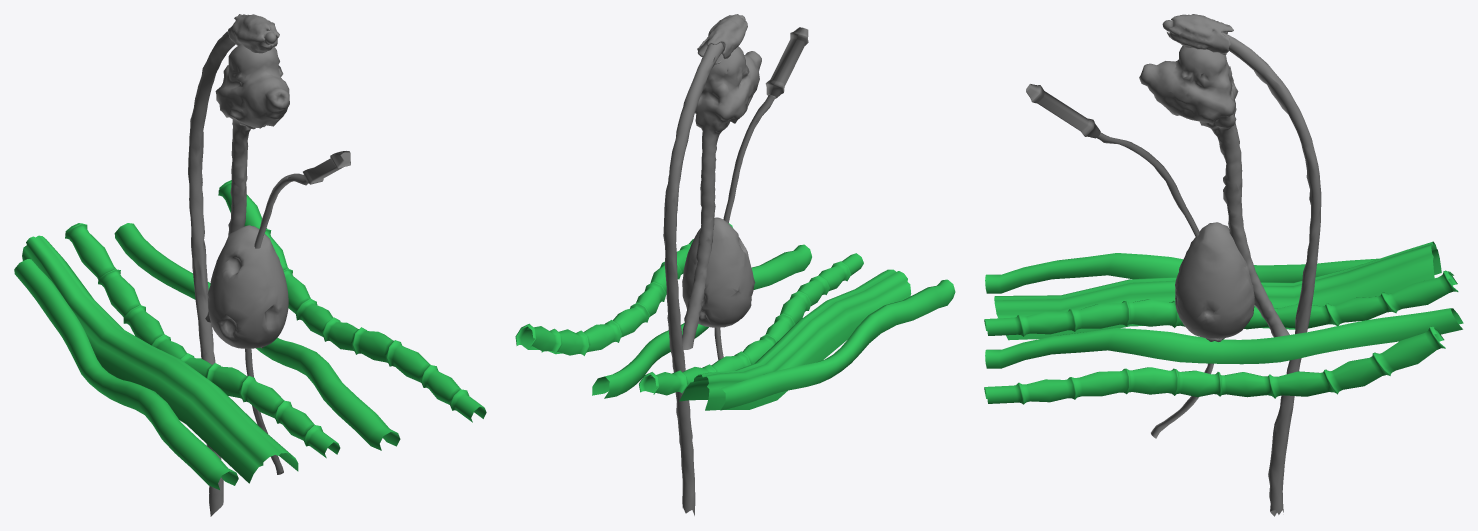
The model's file is Side_Props.fbx.
3 renders of one model, left to right at view 1: azimuth 30°, elevation 25°; view 2: azimuth 150°, elevation 25°; view 3: azimuth 270°, elevation 25°, orthographic. The views are drawn at different scales.
Parts seen in each view (by area): view 1: Side_Prop_06, Side_Prop_01, Side_Prop_03, Side_Prop_04, Side_Prop_02; view 2: Side_Prop_06, Side_Prop_03, Side_Prop_04, Side_Prop_01, Side_Prop_02; view 3: Side_Prop_06, Side_Prop_04, Side_Prop_03, Side_Prop_01, Side_Prop_02.
Part boxes in pixels (<box>): Side_Prop_06: <box>14,180,486,489</box>; Side_Prop_01: <box>207,225,288,348</box>; Side_Prop_03: <box>188,14,279,516</box>; Side_Prop_04: <box>205,45,289,322</box>; Side_Prop_02: <box>245,151,350,474</box>; Side_Prop_06: <box>515,223,955,410</box>; Side_Prop_03: <box>663,14,747,515</box>; Side_Prop_04: <box>682,46,761,349</box>; Side_Prop_01: <box>682,217,755,327</box>; Side_Prop_02: <box>714,27,808,359</box>; Side_Prop_06: <box>984,241,1463,404</box>; Side_Prop_04: <box>1139,46,1289,337</box>; Side_Prop_03: <box>1162,14,1321,516</box>; Side_Prop_01: <box>1175,222,1254,338</box>; Side_Prop_02: <box>1026,84,1213,438</box>.
Size of the model in its own units: 3124 by 4913 by 5692.
